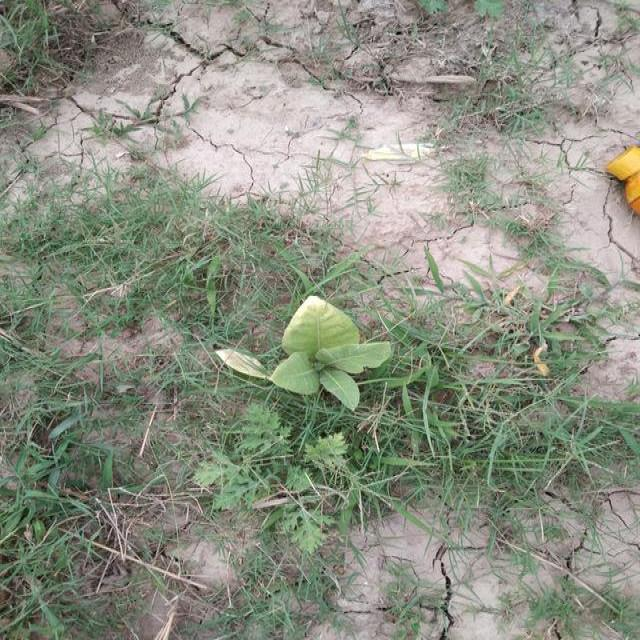crop: (206, 274, 400, 428)
